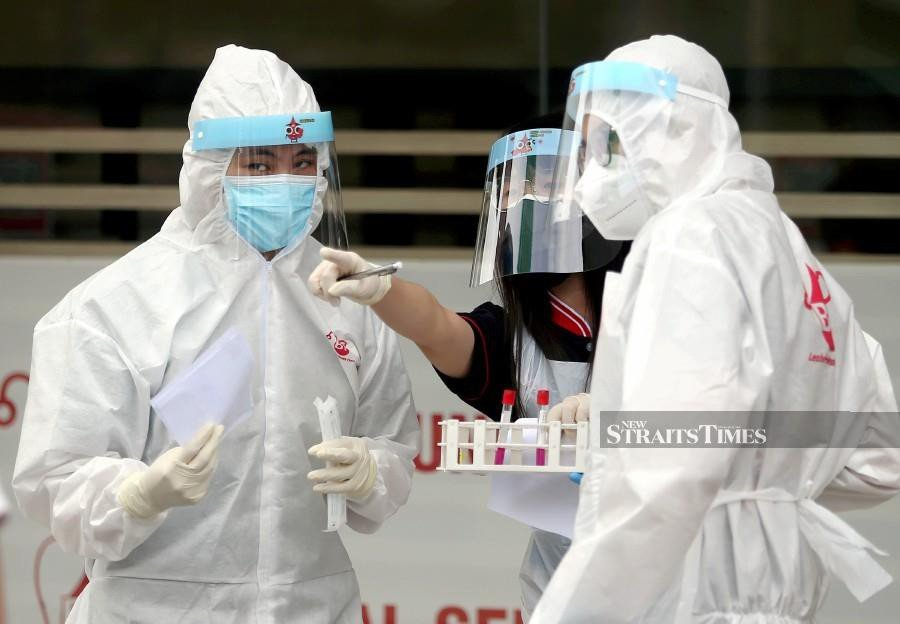Coverall: (16, 44, 422, 624), (525, 24, 900, 604)
Face_Shield: (188, 107, 339, 313), (555, 56, 682, 240), (475, 125, 595, 295)
Gloves: (120, 412, 228, 527), (300, 429, 396, 509), (304, 244, 403, 319)
with_mask: (573, 117, 654, 246), (224, 140, 314, 255), (501, 167, 570, 277)
